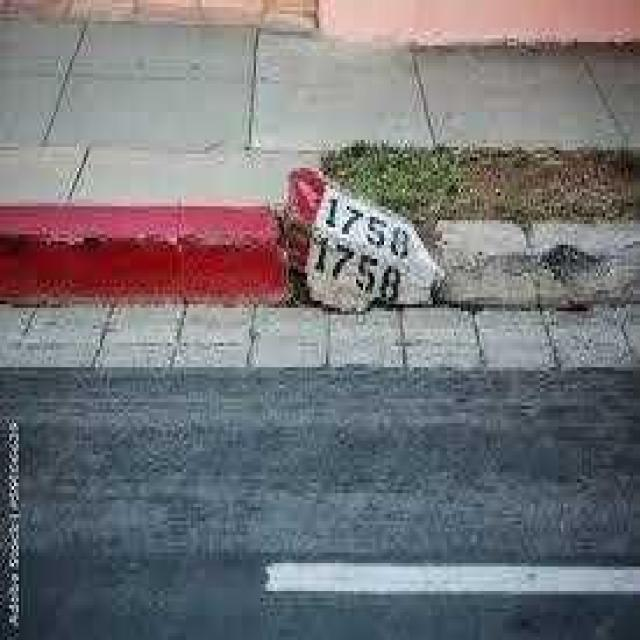curb: (1, 197, 637, 316)
